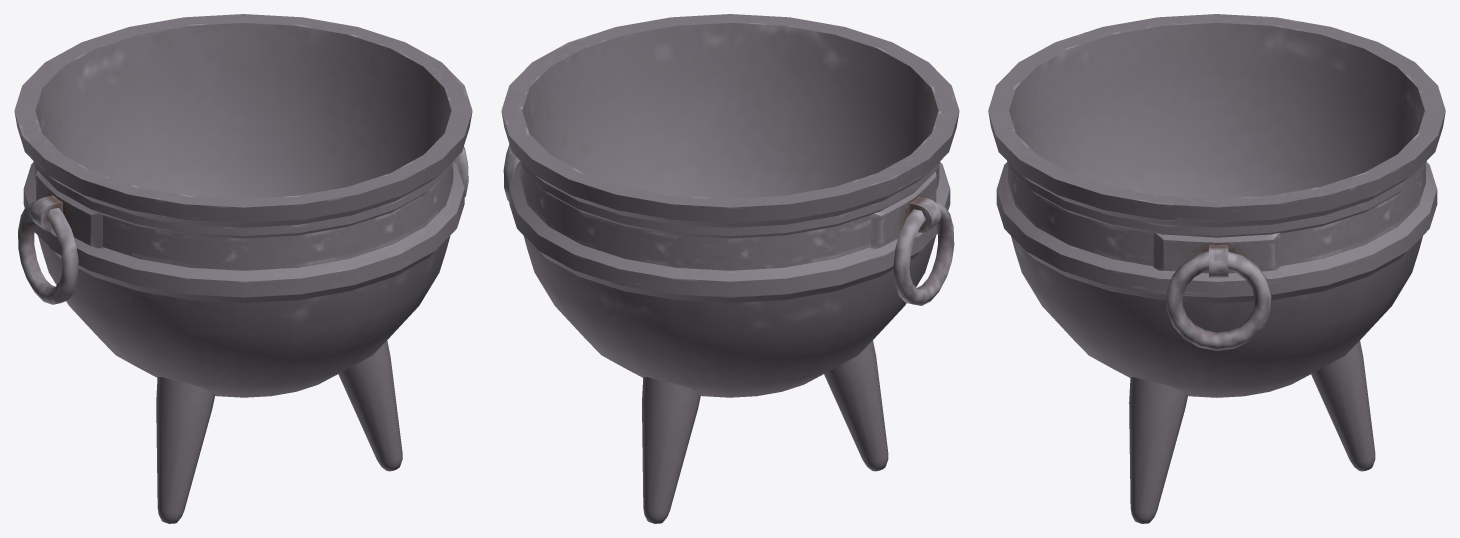
Rendered from Cauldron.glb.
3 views of the same model, side by side, from view 1: azimuth 30°, elevation 25°; view 2: azimuth 150°, elevation 25°; view 3: azimuth 270°, elevation 25° (orthographic).
Visible parts, largest first — view 1: Cauldron; view 2: Cauldron; view 3: Cauldron.
Boxes of the visible parts, <box> form: Cauldron: <box>14,14,472,523</box>; Cauldron: <box>501,14,959,523</box>; Cauldron: <box>988,14,1445,523</box>.
Size of the model in its own units: 0.9891 by 0.8156 by 0.9439.
Materials: 1 (1 with a texture image).
